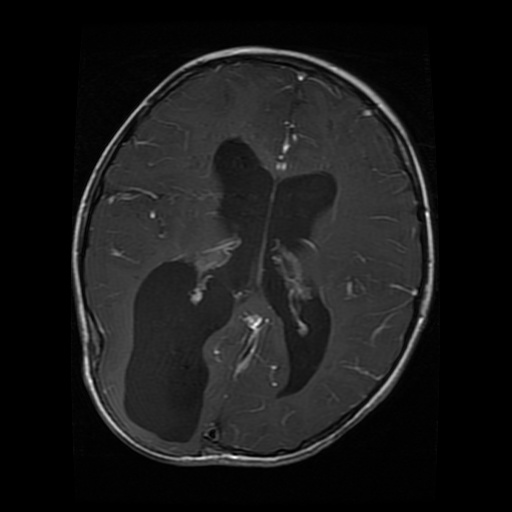glioma: (124, 262, 236, 443)
